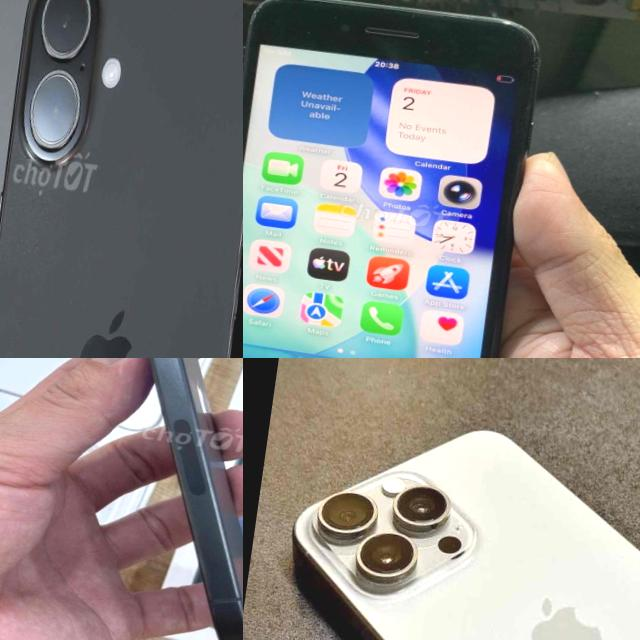scratch: (488, 16, 549, 73), (245, 0, 296, 25)
